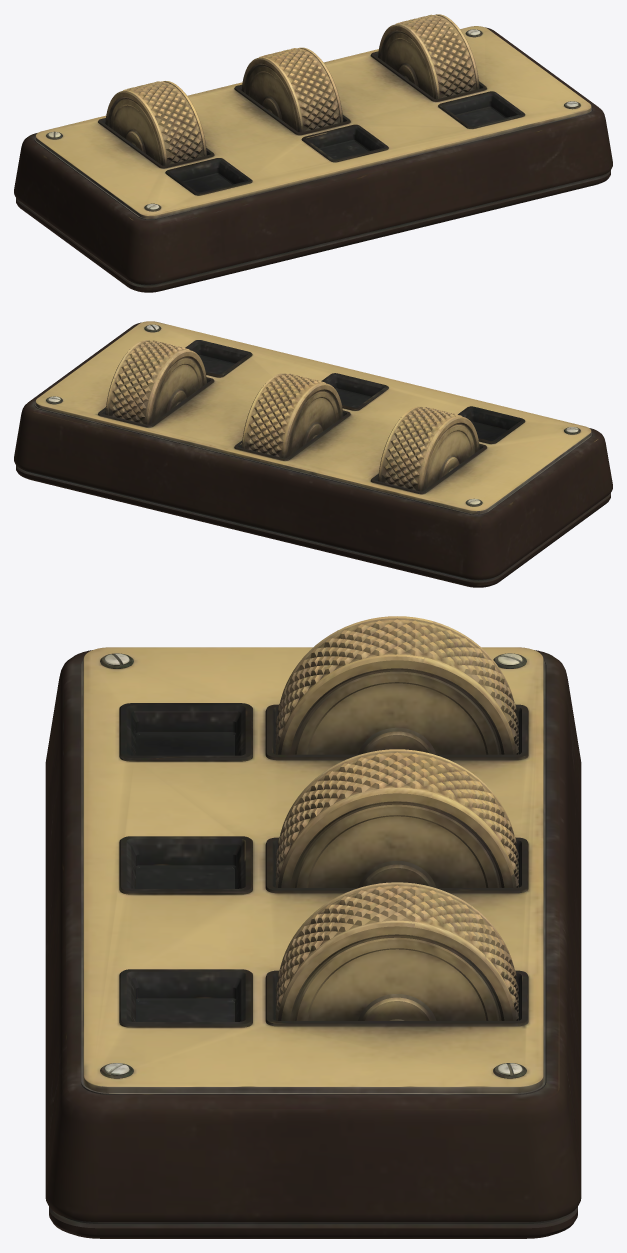
The model's file is contatore.glb.
3 views of the same model, one above another, from view 1: azimuth 30°, elevation 25°; view 2: azimuth 150°, elevation 25°; view 3: azimuth 270°, elevation 25° (orthographic). The views are drawn at different scales.
Parts seen in each view (by area): view 1: Bakelite case | hollow drafted moulding, Faceplate | single milled brass pressing, Wheel_2, Wheel_3, Wheel_1, Undertray | rolled lower edge, Digit_Window_3, Digit_Window_2, Digit_Window_1, Faceplate | perimeter seal, Parting seam | recessed fibre strip, Wheel pocket 1 | collared liner (+2 smaller); view 2: Bakelite case | hollow drafted moulding, Faceplate | single milled brass pressing, Wheel_1, Wheel_3, Wheel_2, Undertray | rolled lower edge, Digit_Window_2, Digit_Window_1, Digit_Window_3, Faceplate | perimeter seal, Parting seam | recessed fibre strip, Wheel pocket 3 | collared liner (+2 smaller); view 3: Bakelite case | hollow drafted moulding, Faceplate | single milled brass pressing, Wheel_3, Wheel_1, Wheel_2, Undertray | rolled lower edge, Digit_Window_2, Digit_Window_1, Digit_Window_3, Faceplate | perimeter seal, Wheel pocket 3 | collared liner, Wheel pocket 1 | collared liner (+2 smaller).
Boxes of the visible parts, x1,y1,x2,y2 form: Bakelite case | hollow drafted moulding: (14,27,612,284); Faceplate | single milled brass pressing: (35,26,591,218); Wheel_2: (241,47,343,132); Wheel_3: (378,14,479,99); Wheel_1: (105,81,206,165); Undertray | rolled lower edge: (16,170,610,292); Digit_Window_3: (438,91,525,128); Digit_Window_2: (301,124,388,162); Digit_Window_1: (165,158,252,195); Faceplate | perimeter seal: (34,107,592,219); Parting seam | recessed fibre strip: (132,175,602,285); Wheel pocket 1 | collared liner: (98,118,214,168); Bakelite case | hollow drafted moulding: (14,322,612,579); Faceplate | single milled brass pressing: (35,321,591,513); Wheel_1: (378,406,479,491); Wheel_3: (105,340,206,424); Wheel_2: (241,373,343,458); Undertray | rolled lower edge: (16,465,610,587); Digit_Window_2: (321,373,388,410); Digit_Window_1: (458,406,525,443); Digit_Window_3: (185,340,252,377); Faceplate | perimeter seal: (34,402,592,514); Parting seam | recessed fibre strip: (24,470,494,580); Wheel pocket 3 | collared liner: (98,377,214,427); Bakelite case | hollow drafted moulding: (45,650,581,1222); Faceplate | single milled brass pressing: (83,647,543,1092); Wheel_3: (275,882,518,1020); Wheel_1: (275,616,518,754); Wheel_2: (275,749,518,887); Undertray | rolled lower edge: (49,1207,577,1238); Digit_Window_2: (119,836,252,894); Digit_Window_1: (119,703,252,761); Digit_Window_3: (119,969,252,1027); Faceplate | perimeter seal: (81,660,545,1094); Wheel pocket 3 | collared liner: (265,970,528,1026); Wheel pocket 1 | collared liner: (265,704,528,760).
Size of the model in its own units: 2 by 0.48 by 0.96.
1 material, 1 textured.
